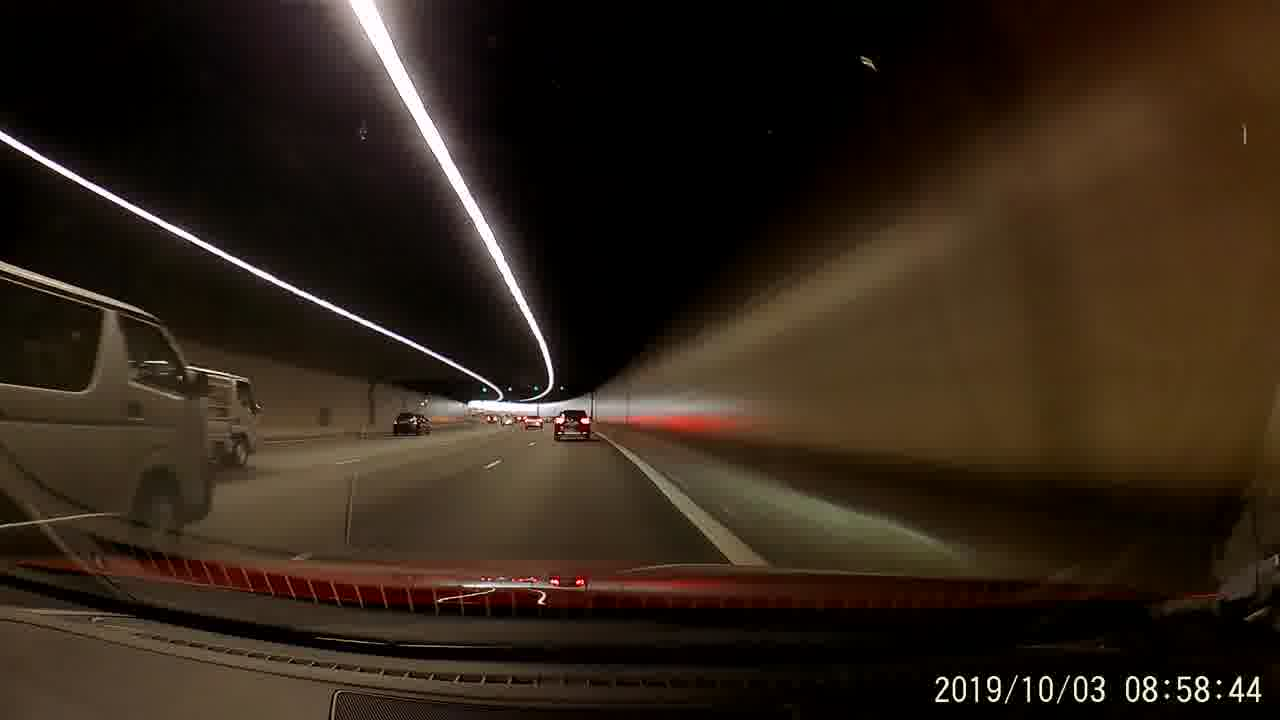car: (554, 409, 590, 444), (389, 410, 434, 437), (522, 413, 545, 432)
